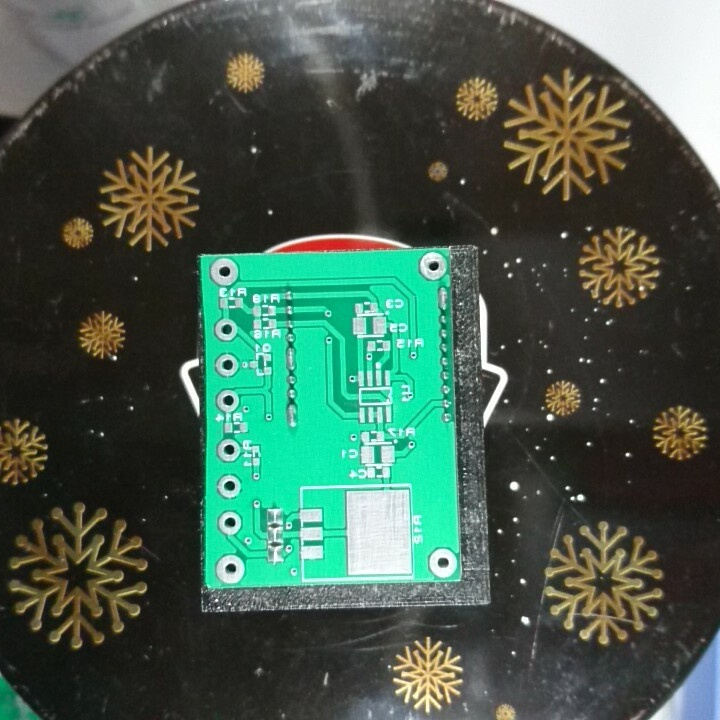F: (208, 257, 242, 289), (214, 552, 246, 585), (427, 546, 460, 578), (417, 251, 448, 281), (214, 386, 241, 416), (214, 473, 244, 500), (215, 436, 242, 464), (213, 316, 239, 343), (214, 352, 241, 378), (217, 509, 243, 535)
P: (283, 344, 299, 374), (285, 402, 299, 429), (436, 284, 449, 312)
